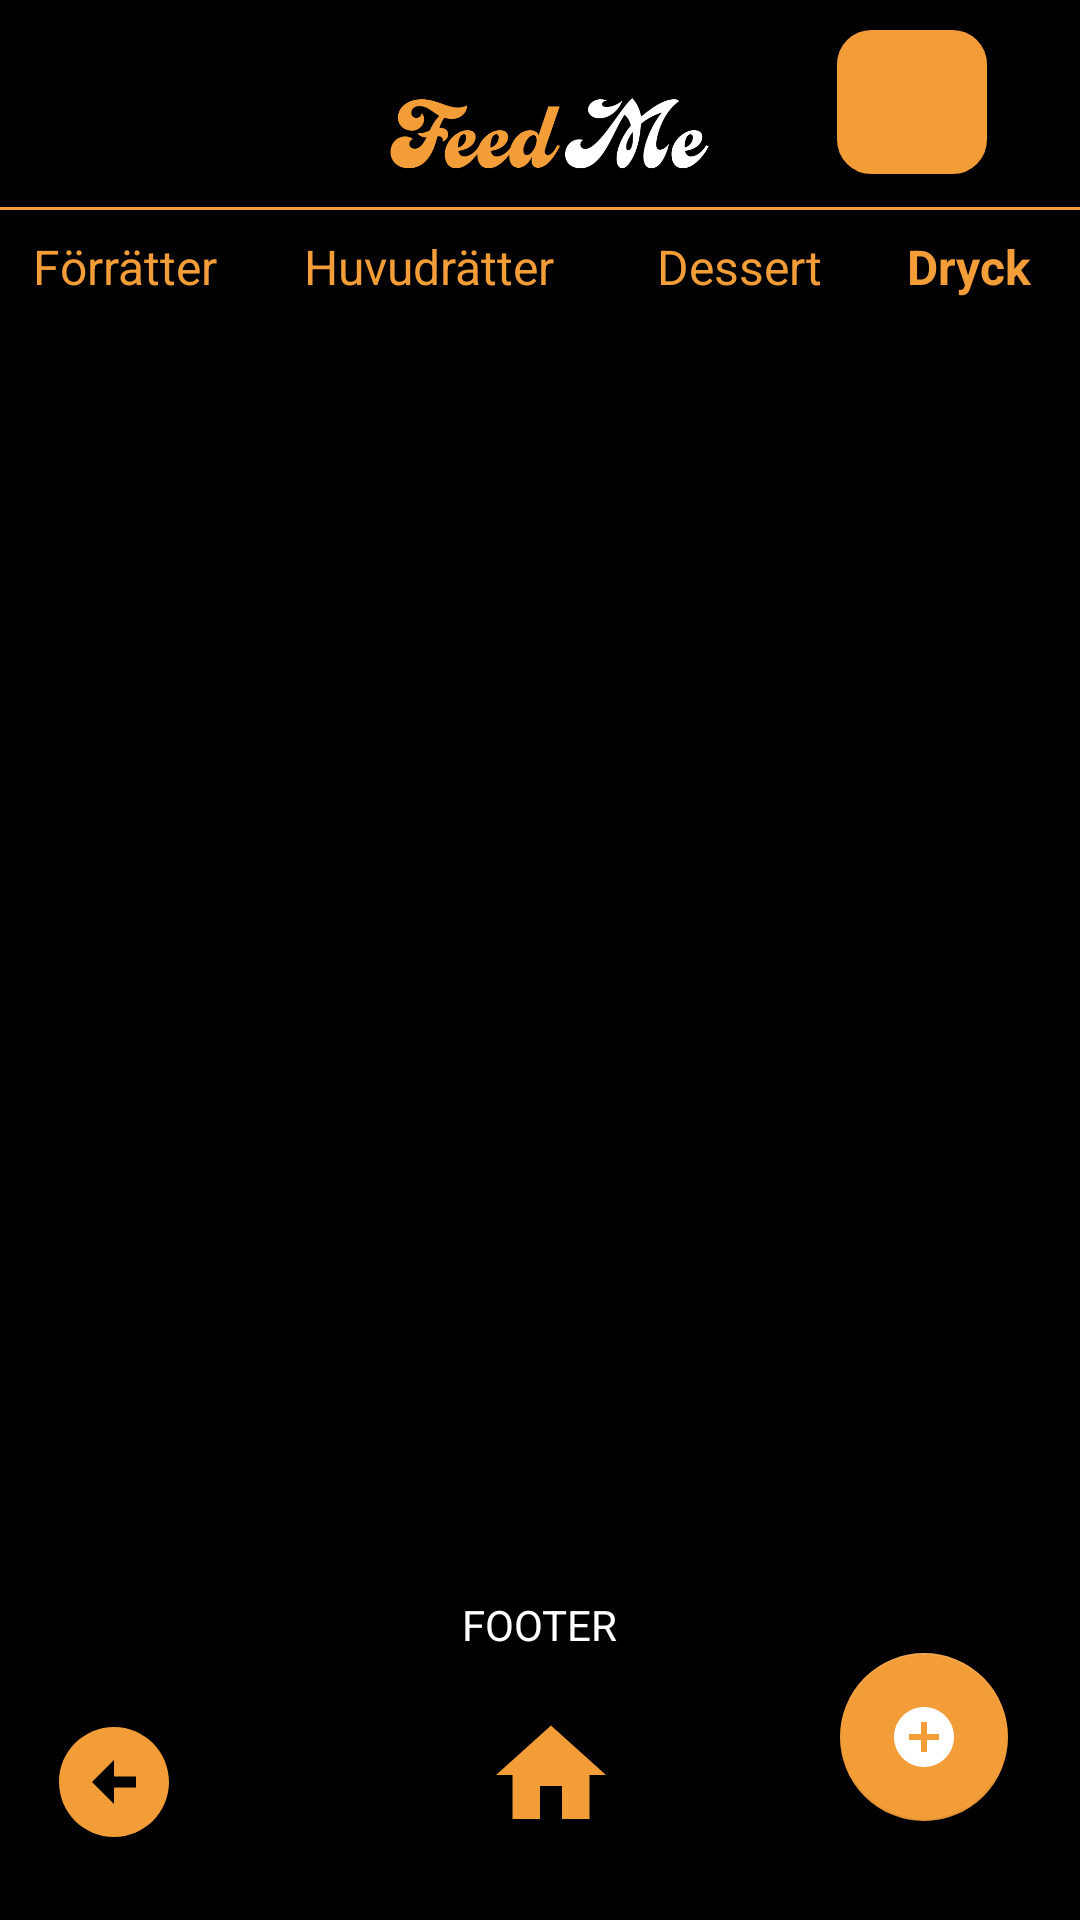

Screen size 1080x1920. Icon name, then its box in pixels as (x1, y1, x2, y2):
arrow circle left: (59, 1727, 169, 1837)
home: (496, 1725, 606, 1819)
Lägg till: (840, 1653, 1008, 1821)
